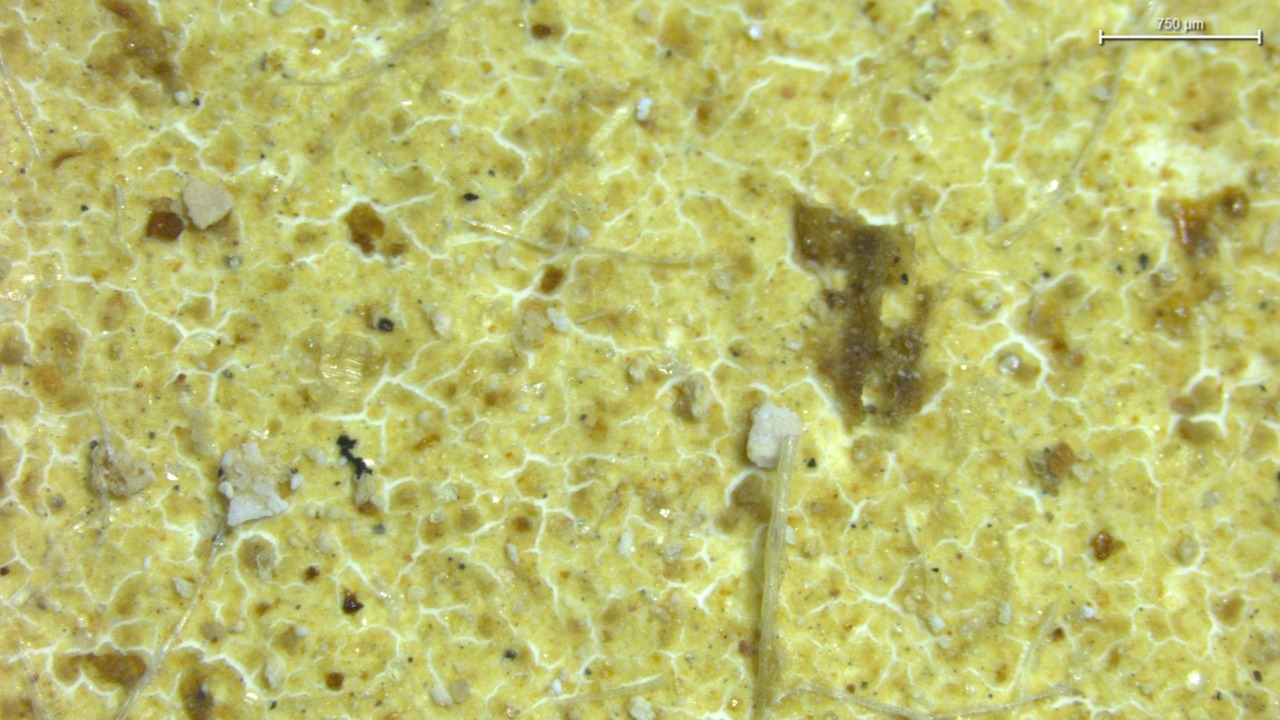microplastic_fragment: (219, 442, 288, 527), (747, 400, 803, 468), (183, 179, 232, 229)
